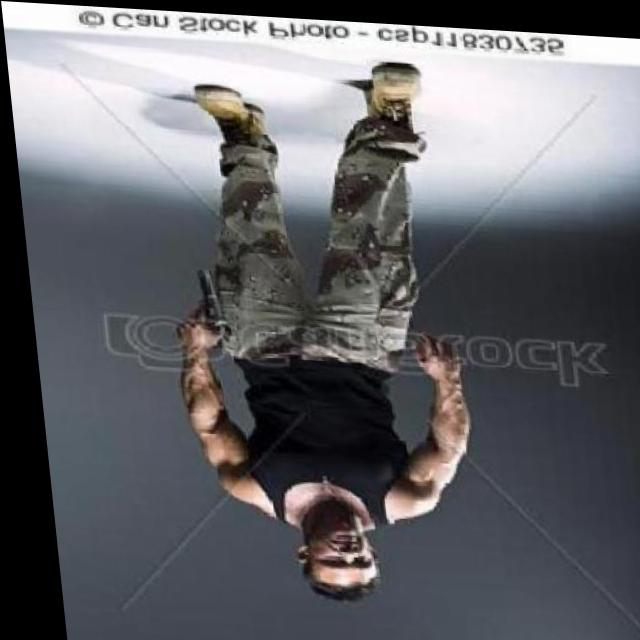handgun: (170, 258, 226, 336)
